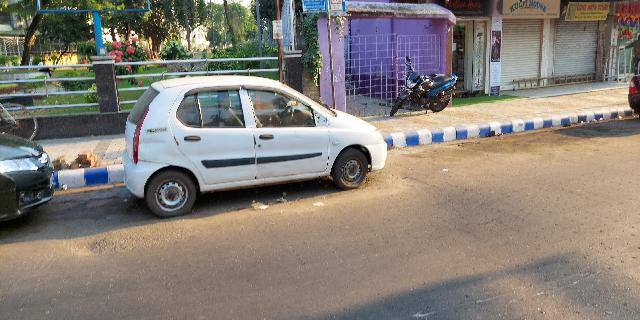Car: (121, 68, 389, 221), (1, 130, 61, 230)
Motorbike: (387, 60, 460, 121)
